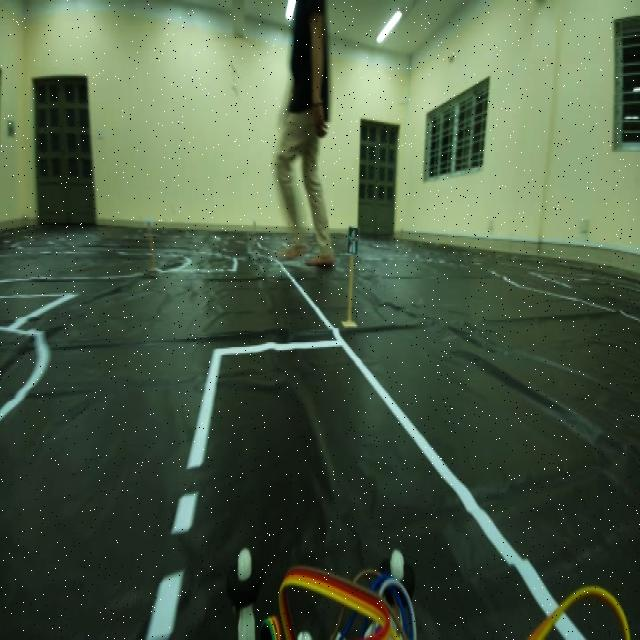highway_exit: (344, 219, 360, 263)
